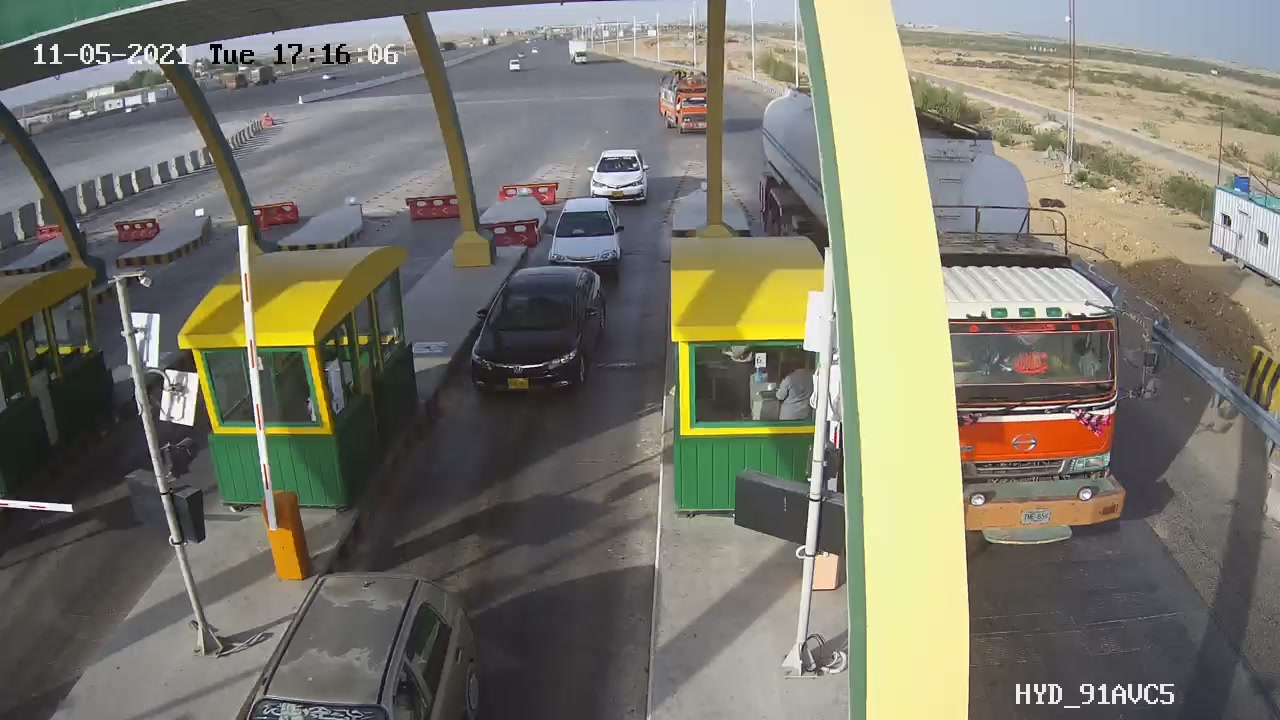F1: (456, 256, 626, 416), (534, 188, 638, 291)
